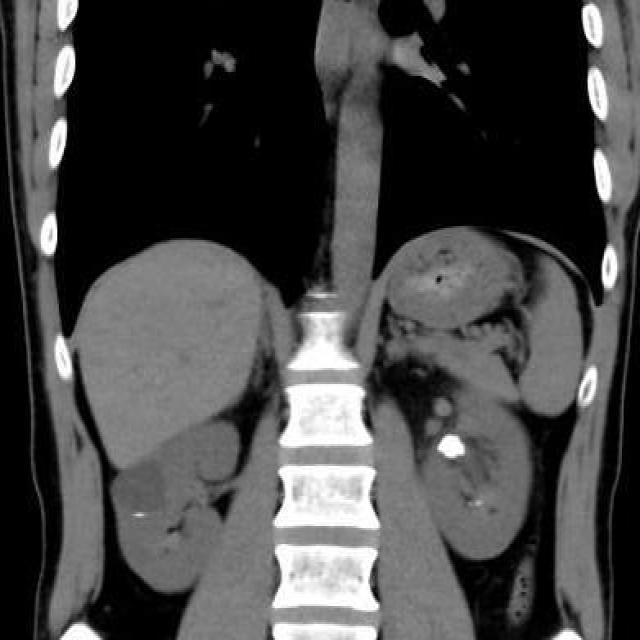Tas_Var: (437, 430, 467, 458), (133, 509, 150, 521), (474, 497, 485, 509), (466, 499, 474, 507)
